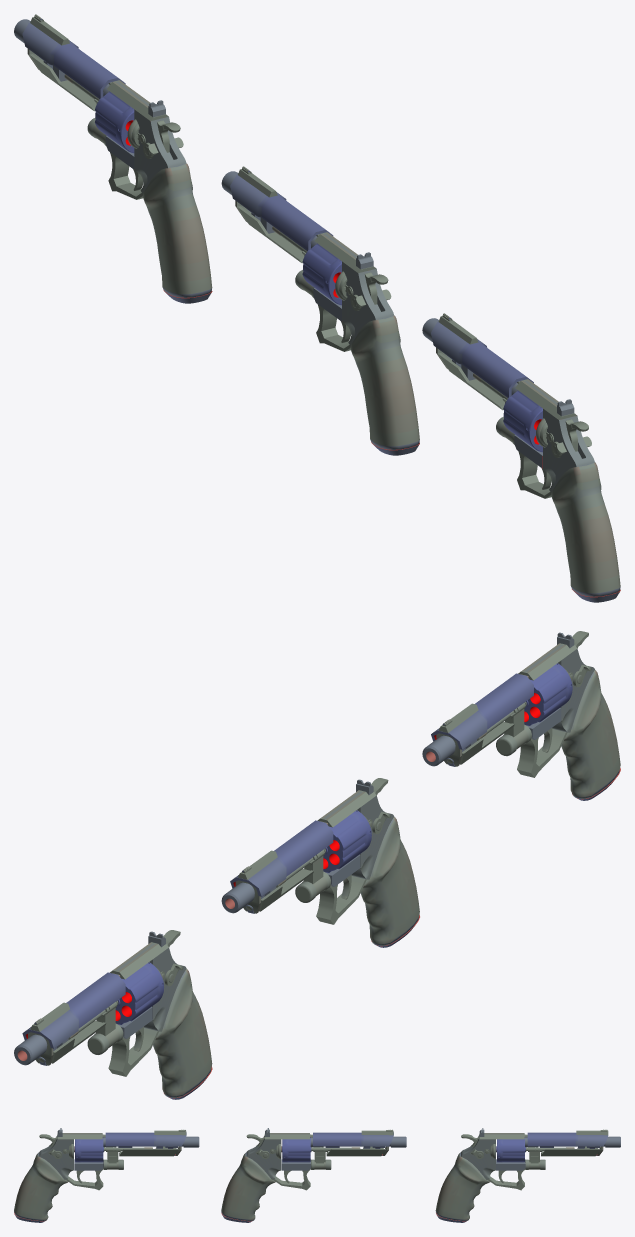
Rendered from Pistols.fbx.
3 views of the same model, one above another, from view 1: azimuth 30°, elevation 25°; view 2: azimuth 150°, elevation 25°; view 3: azimuth 270°, elevation 25° (orthographic). The views are drawn at different scales.
Visible parts, largest first — view 1: SciFi_Revolver_Game.002, SciFi_Revolver_Game, SciFi_Revolver_Game.001; view 2: SciFi_Revolver_Game, SciFi_Revolver_Game.001, SciFi_Revolver_Game.002; view 3: SciFi_Revolver_Game.002, SciFi_Revolver_Game.001, SciFi_Revolver_Game.
Part boxes in pixels (bbox=[...]): SciFi_Revolver_Game.002: bbox=[422, 313, 620, 602]; SciFi_Revolver_Game: bbox=[14, 14, 212, 303]; SciFi_Revolver_Game.001: bbox=[221, 166, 419, 455]; SciFi_Revolver_Game: bbox=[14, 930, 212, 1099]; SciFi_Revolver_Game.001: bbox=[221, 778, 419, 947]; SciFi_Revolver_Game.002: bbox=[422, 631, 620, 800]; SciFi_Revolver_Game.002: bbox=[14, 1128, 199, 1222]; SciFi_Revolver_Game.001: bbox=[221, 1128, 406, 1222]; SciFi_Revolver_Game: bbox=[435, 1128, 620, 1222].
Bounding box in the file's own units: 70.66 × 273 × 1631.
